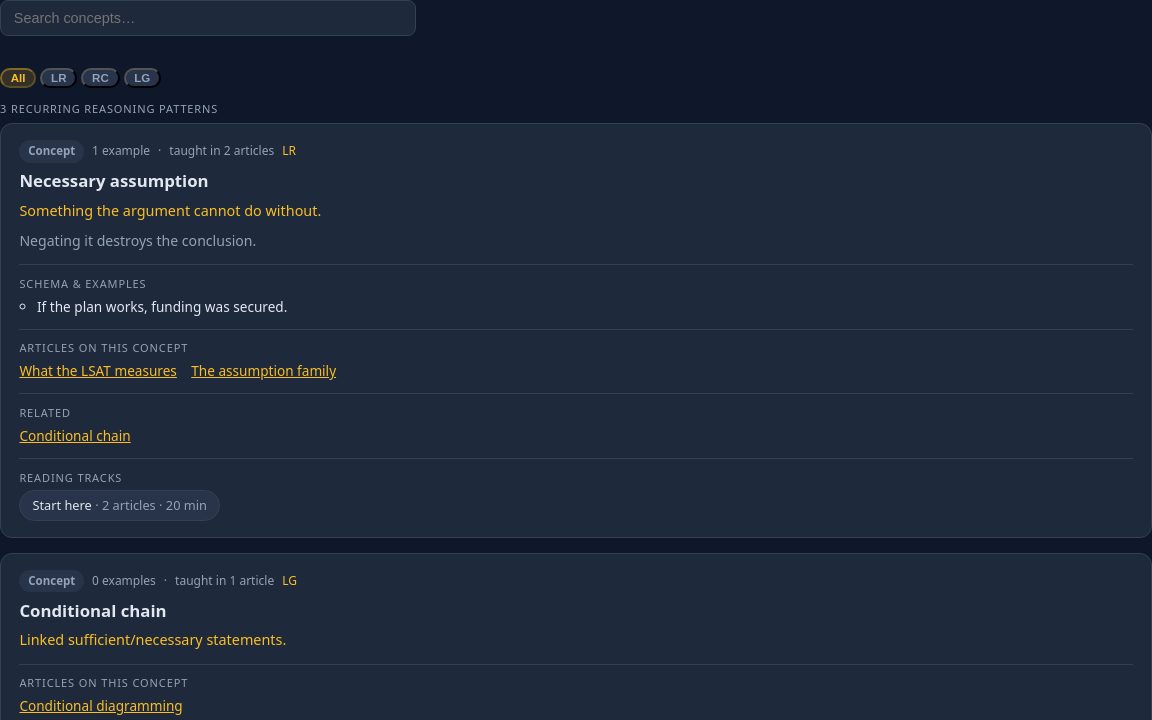
Test: catalog filters › searches name, summary, detail and examples
Type "destroys the conclusion" into the search field at (208, 18), box [0,0,416,36]
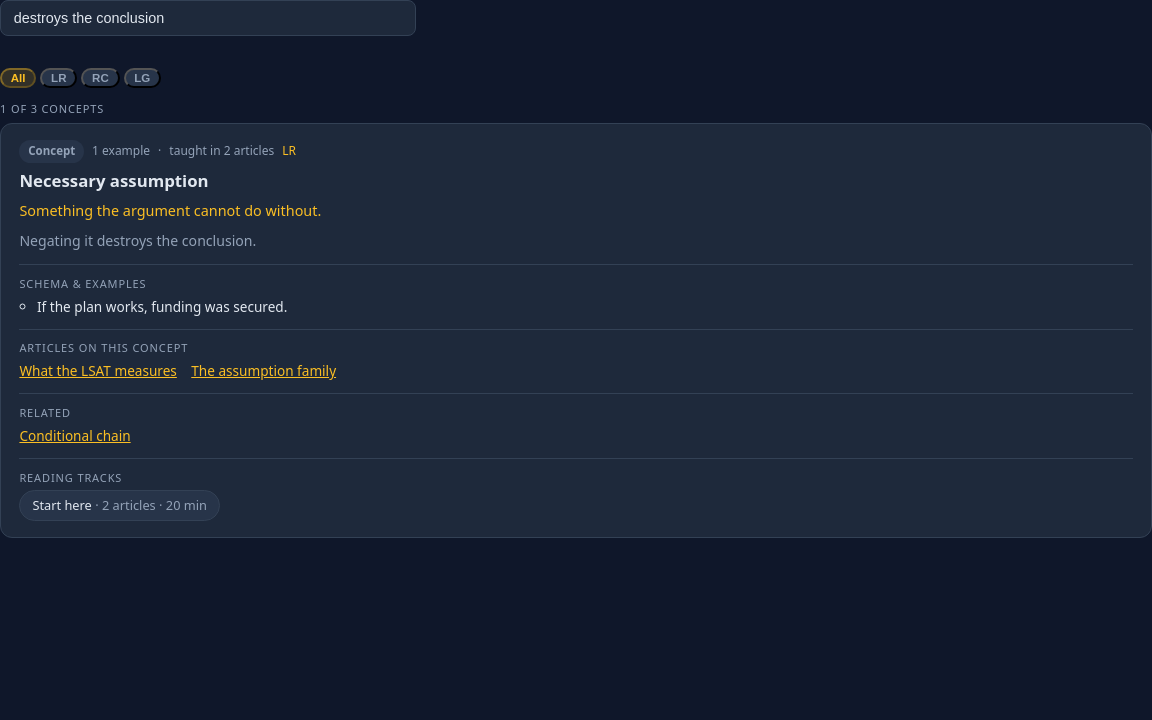
Expected: the heading "Necessary assumption" is shown, [19,169,209,192]
Expected: the text "1 of 3 concepts" is shown, [0,101,104,116]
Replace the text in the search field with "nothing here" at (208, 18), box [0,0,416,36]
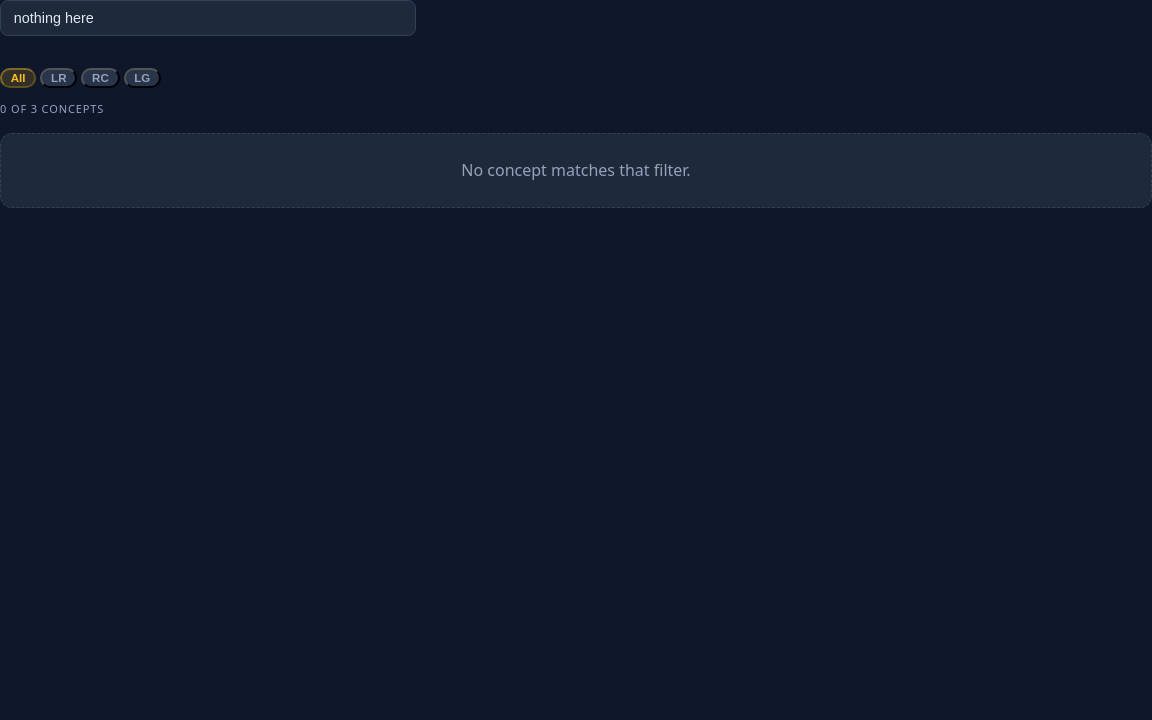
Expected: the text "No concept matches that filter." is shown, [0,133,1151,208]
